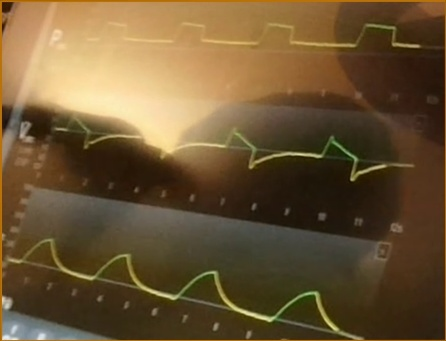Normal Flow: (57, 105, 413, 183)
Normal Volume: (8, 234, 364, 341)
